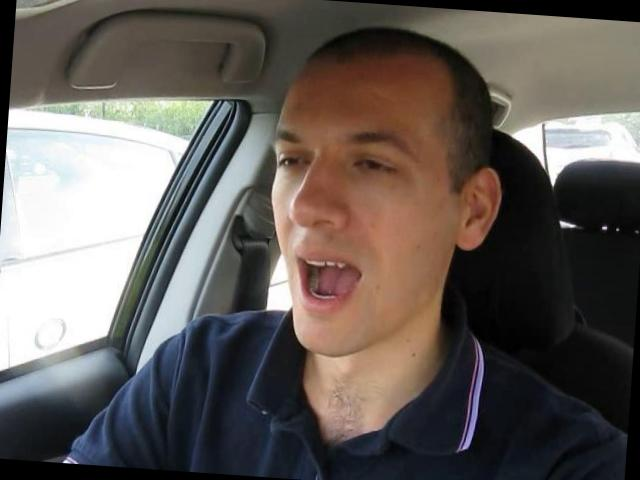eye_open: (346, 148, 406, 182), (274, 147, 312, 174)
face: (255, 106, 443, 364)
mouth_open: (284, 243, 372, 317)
